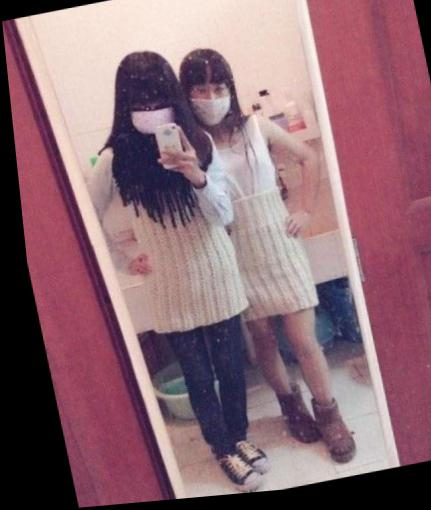OK: (120, 87, 181, 147)
WRONG: (186, 83, 232, 131)
